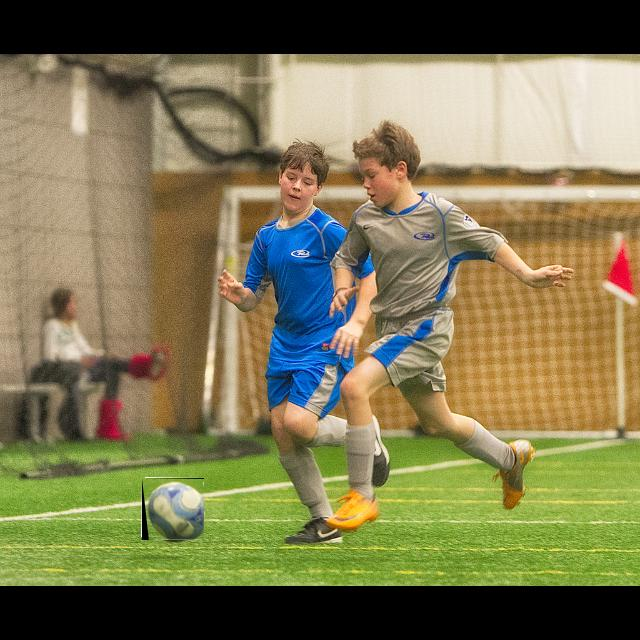Football: (142, 478, 204, 540)
